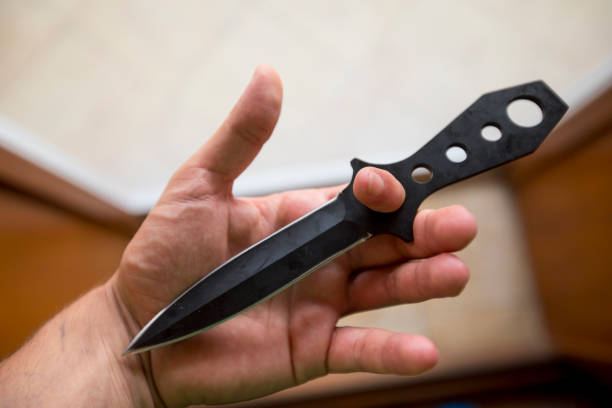knife: (118, 77, 571, 358)
